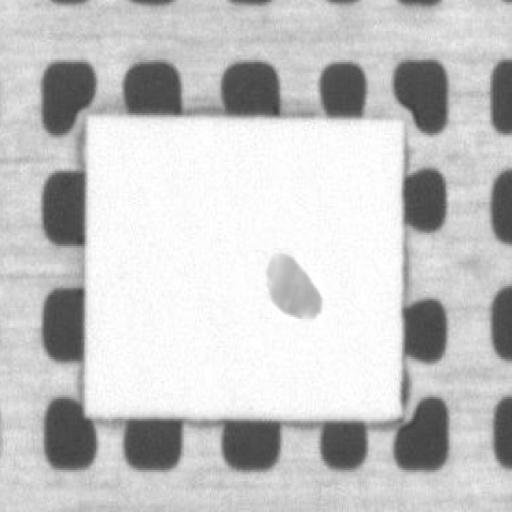DIE_INK: (265, 255, 320, 315)
